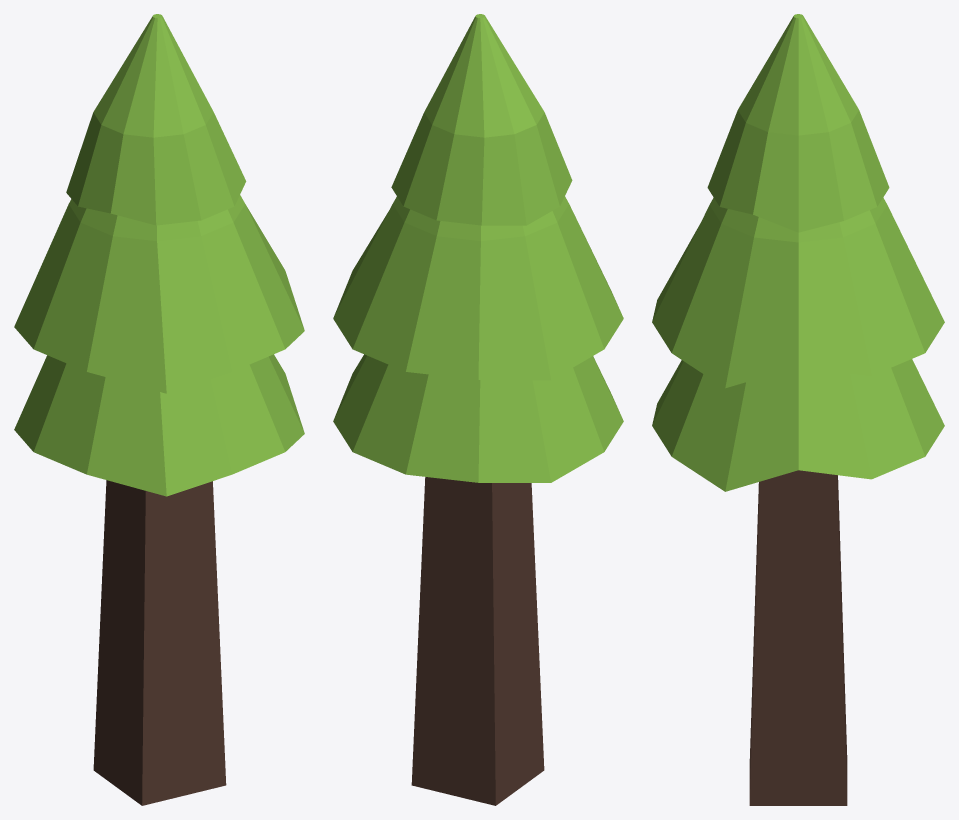
The model's file is tree2.fbx.
3 views of the same model, side by side, from view 1: azimuth 30°, elevation 25°; view 2: azimuth 150°, elevation 25°; view 3: azimuth 270°, elevation 25° (orthographic).
Parts seen in each view (by area): view 1: tree2; view 2: tree2; view 3: tree2.
Boxes of the visible parts, bbox=[...] form: tree2: bbox=[14, 14, 304, 805]; tree2: bbox=[333, 14, 623, 805]; tree2: bbox=[652, 14, 944, 805].
Size of the model in its own units: 347 by 1004 by 347.
